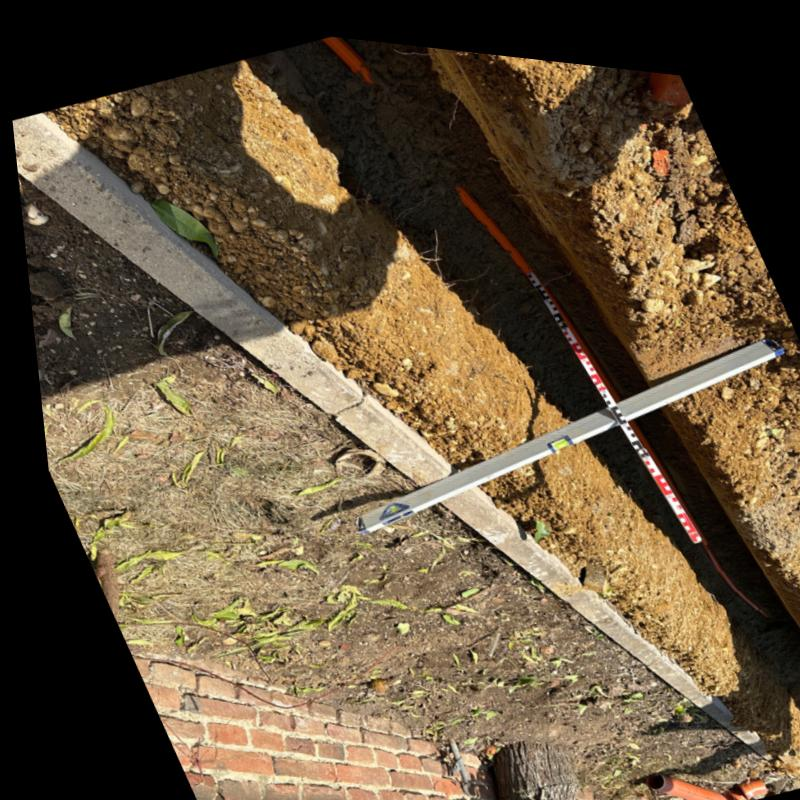Orang-Speednetrohrchen: (452, 168, 529, 262), (696, 532, 756, 603), (319, 29, 375, 78)
